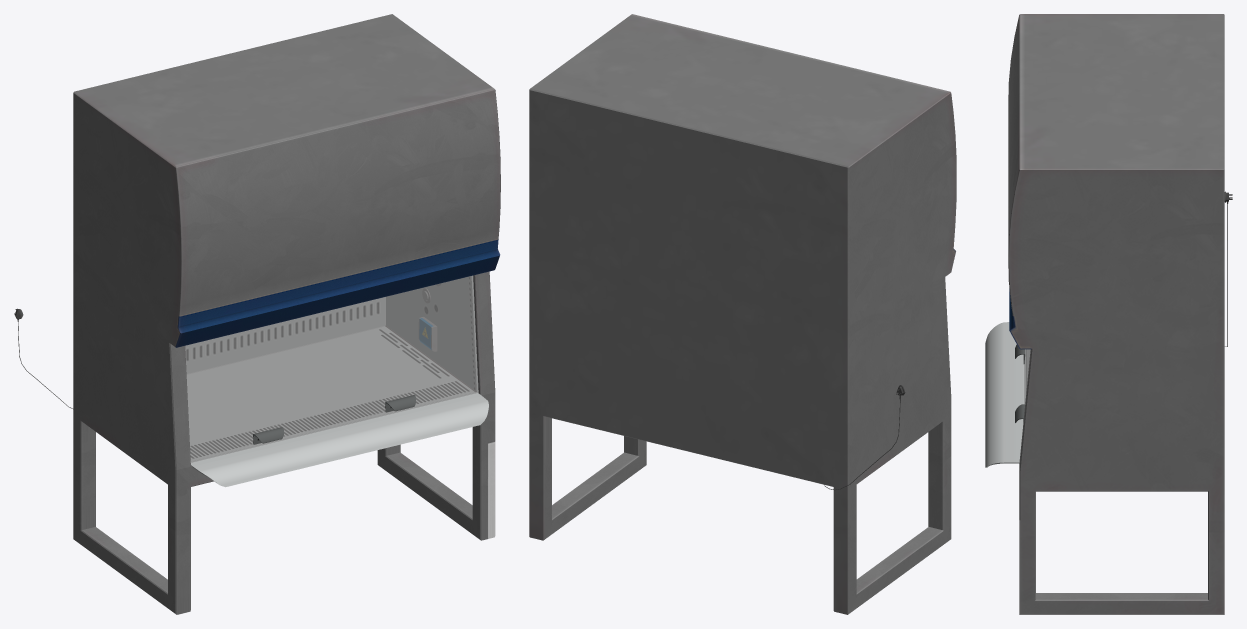
The picture shows the model from 3 angles, left to right: view 1: azimuth 30°, elevation 25°; view 2: azimuth 150°, elevation 25°; view 3: azimuth 270°, elevation 25°; orthographic projection.
Parts seen in each view (by area): view 1: A0009, Window, WindowHandle; view 2: A0009; view 3: A0009.
Boxes of the visible parts, bbox=[...] form: A0009: bbox=[73, 14, 500, 614]; Window: bbox=[185, 275, 478, 462]; WindowHandle: bbox=[253, 395, 415, 444]; A0009: bbox=[529, 14, 956, 614]; A0009: bbox=[985, 14, 1224, 614].
Bounding box in the file's own units: 164 × 186 × 93.59.
